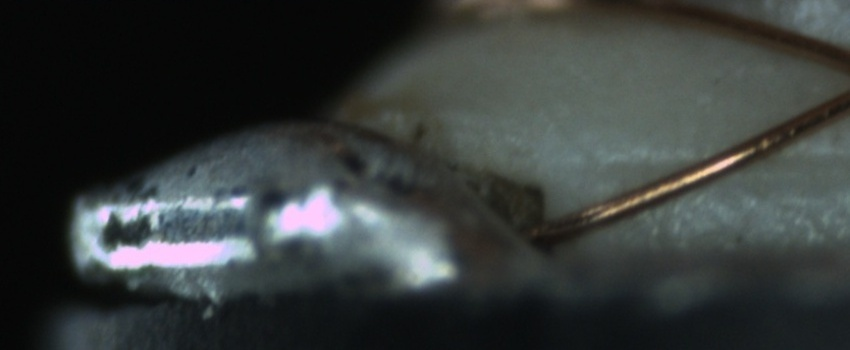DL: (605, 128, 846, 200)
